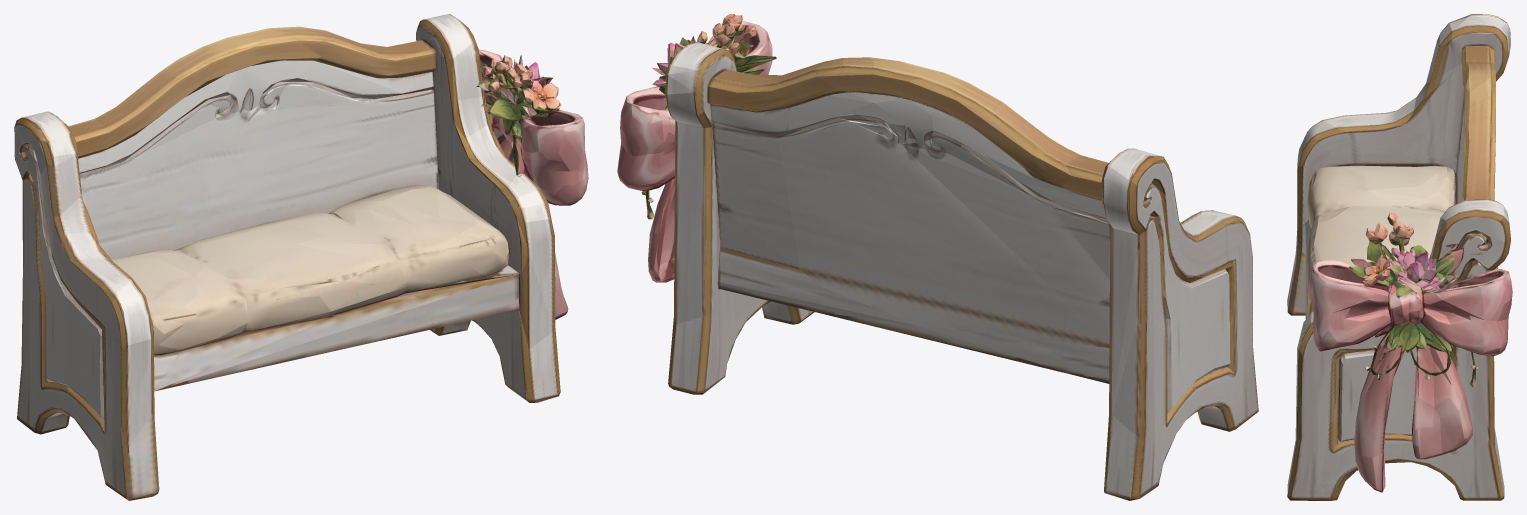
The model's file is wh_guest_bench.fbx.
The picture shows the model from 3 angles, left to right: view 1: azimuth 30°, elevation 25°; view 2: azimuth 150°, elevation 25°; view 3: azimuth 270°, elevation 25°; orthographic projection. The views are drawn at different scales.
Parts seen in each view (by area): view 1: wh_guest_bench; view 2: wh_guest_bench; view 3: wh_guest_bench.
Part boxes in pixels (left/top/right/bottom): wh_guest_bench: left=14, top=14, right=588, bottom=500; wh_guest_bench: left=617, top=14, right=1258, bottom=500; wh_guest_bench: left=1287, top=14, right=1512, bottom=500.
Bounding box in the file's own units: 1.99 × 1.3 × 0.8329.
